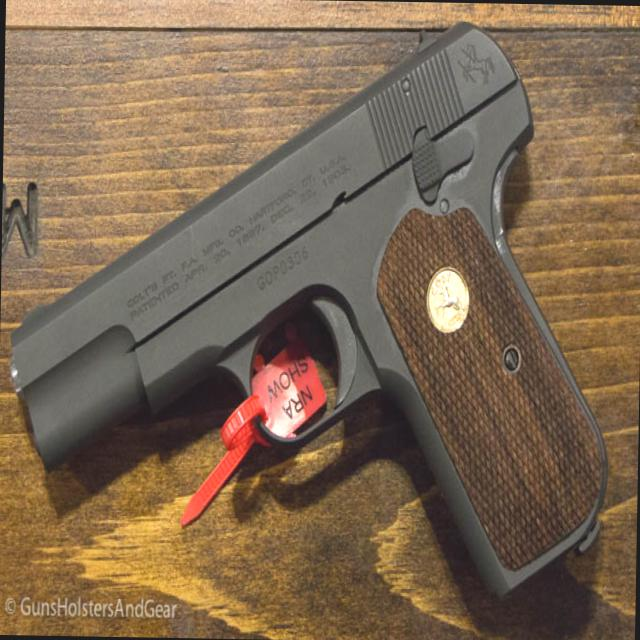handgun: (3, 20, 615, 596)
